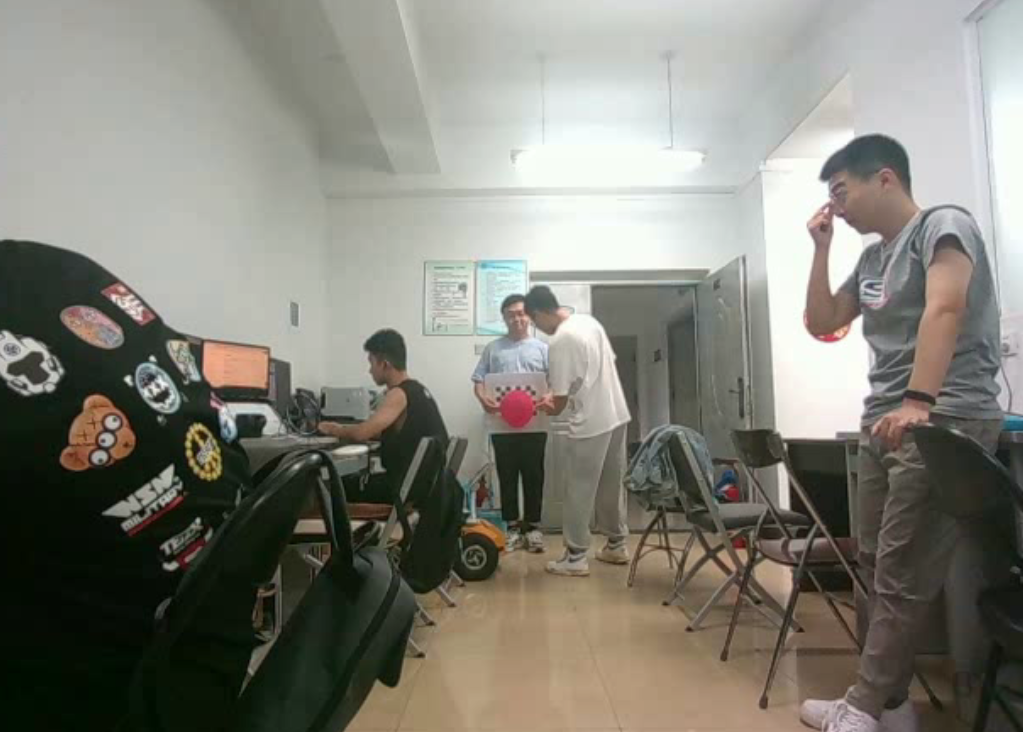balloon: (500, 393, 538, 428)
